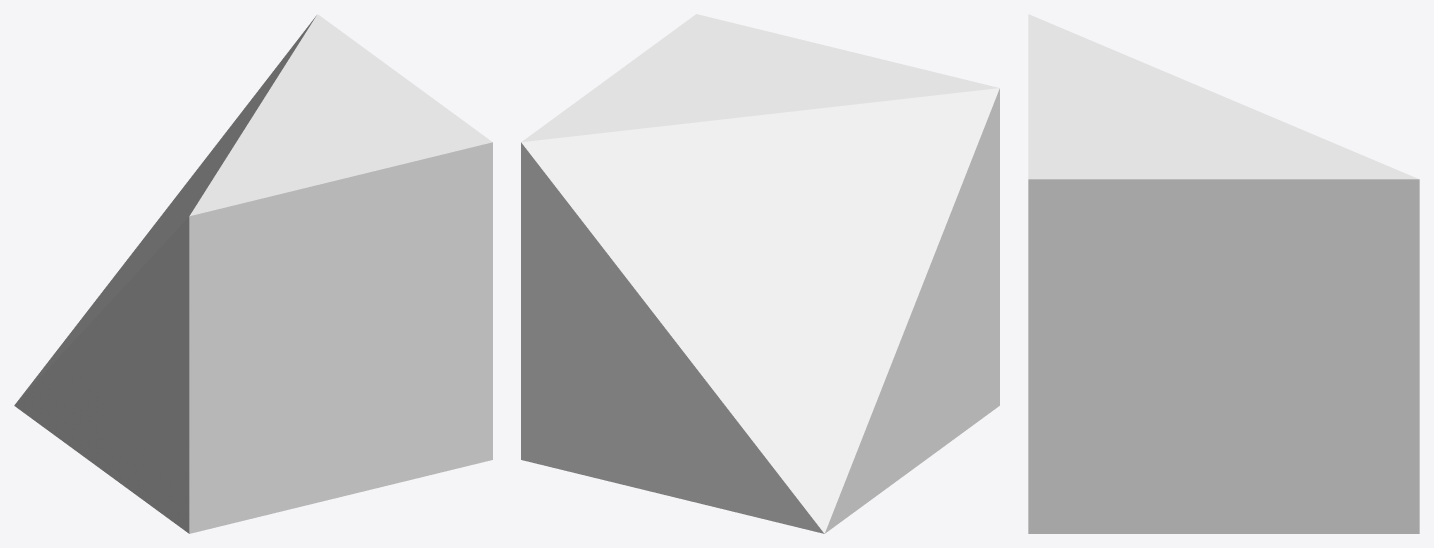
The model's file is Pol_QieJianLiFangTi_FG_1X1_on.FBX.
3 renders of one model, left to right at view 1: azimuth 30°, elevation 25°; view 2: azimuth 150°, elevation 25°; view 3: azimuth 270°, elevation 25°, orthographic. The views are drawn at different scales.
Visible parts, largest first — view 1: Box003; view 2: Box003; view 3: Box003.
Part boxes in pixels (bbox=[...]): Box003: bbox=[14, 14, 492, 533]; Box003: bbox=[521, 14, 999, 533]; Box003: bbox=[1028, 14, 1419, 533].
Size of the model in its own units: 1 by 1 by 1.
